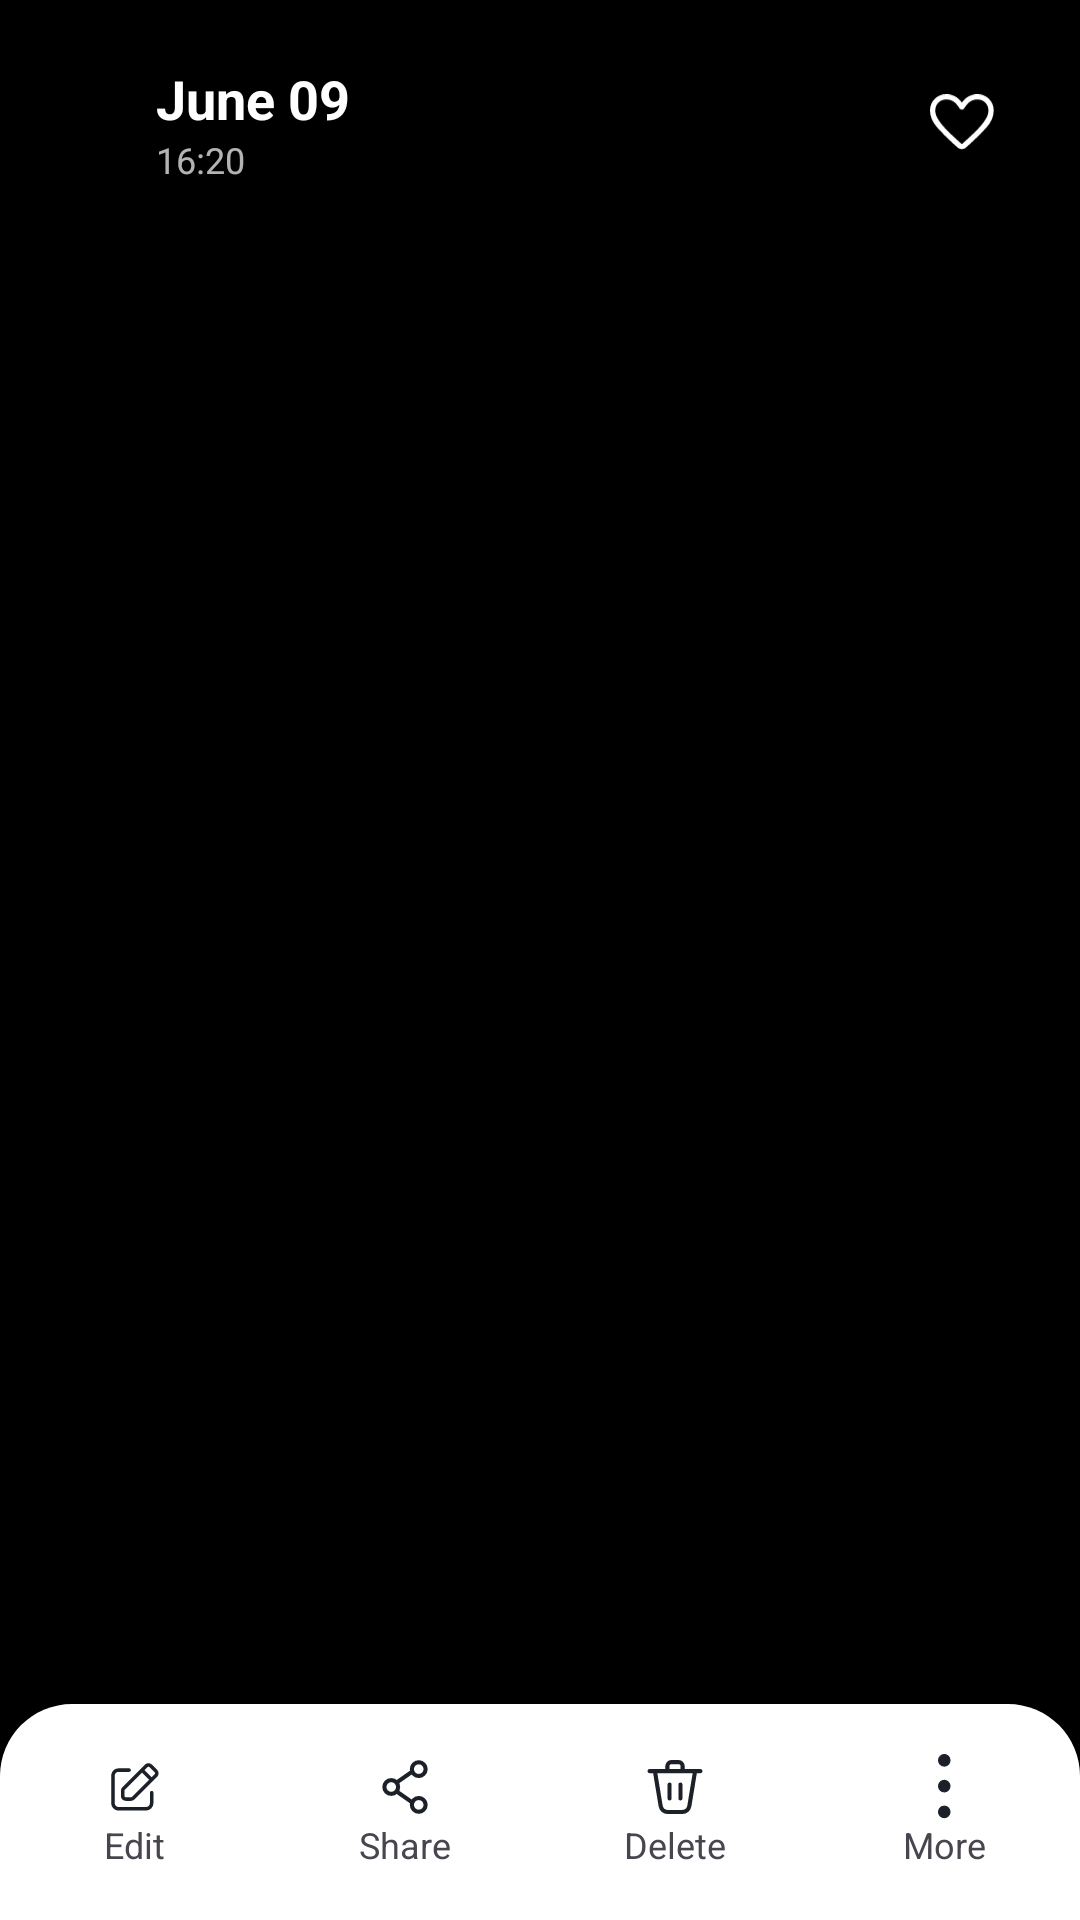

Icons on this 1080w x 1920h Android screen, each with its box as (x1, y1, x2, y2):
heart: (930, 94, 994, 150)
